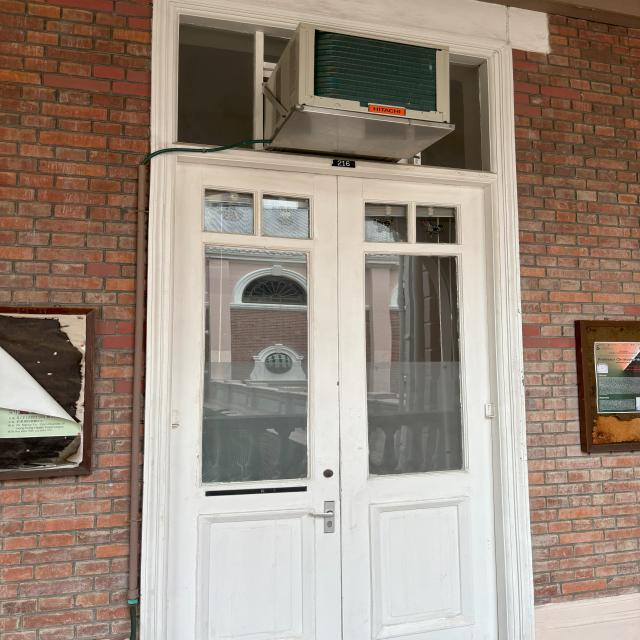MB216_roomNumber: (328, 156, 358, 172)
